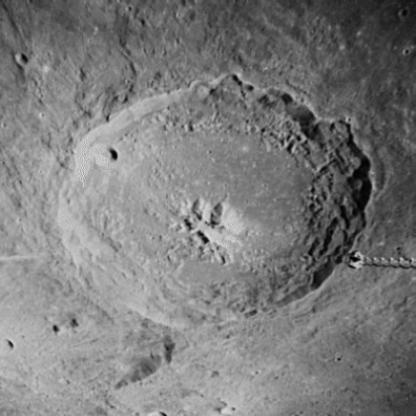craters: (53, 67, 388, 331), (176, 198, 250, 262), (85, 137, 130, 171), (4, 44, 39, 72)
